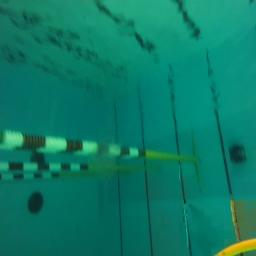Full: (228, 144, 246, 164)
